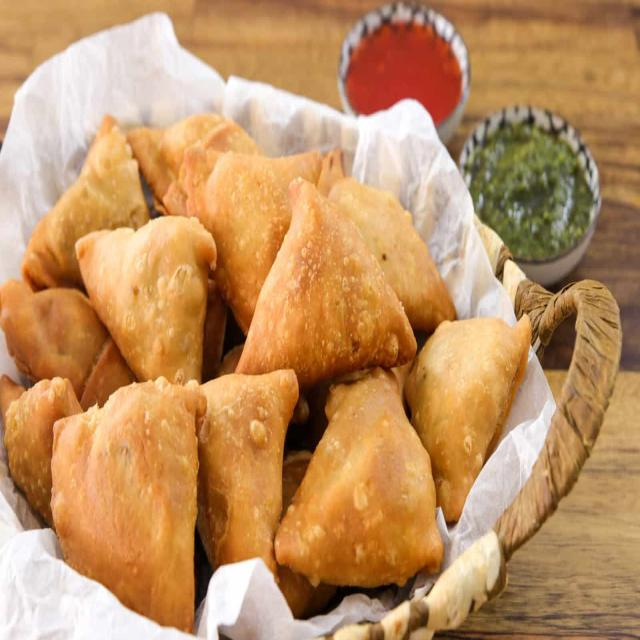SAMOSA: (51, 381, 200, 631), (236, 180, 416, 386), (274, 368, 443, 587), (404, 316, 531, 522), (180, 150, 319, 334), (76, 216, 216, 382), (21, 116, 150, 287), (196, 370, 298, 574), (327, 177, 455, 329), (128, 115, 261, 219), (0, 280, 112, 395), (4, 377, 83, 525)
